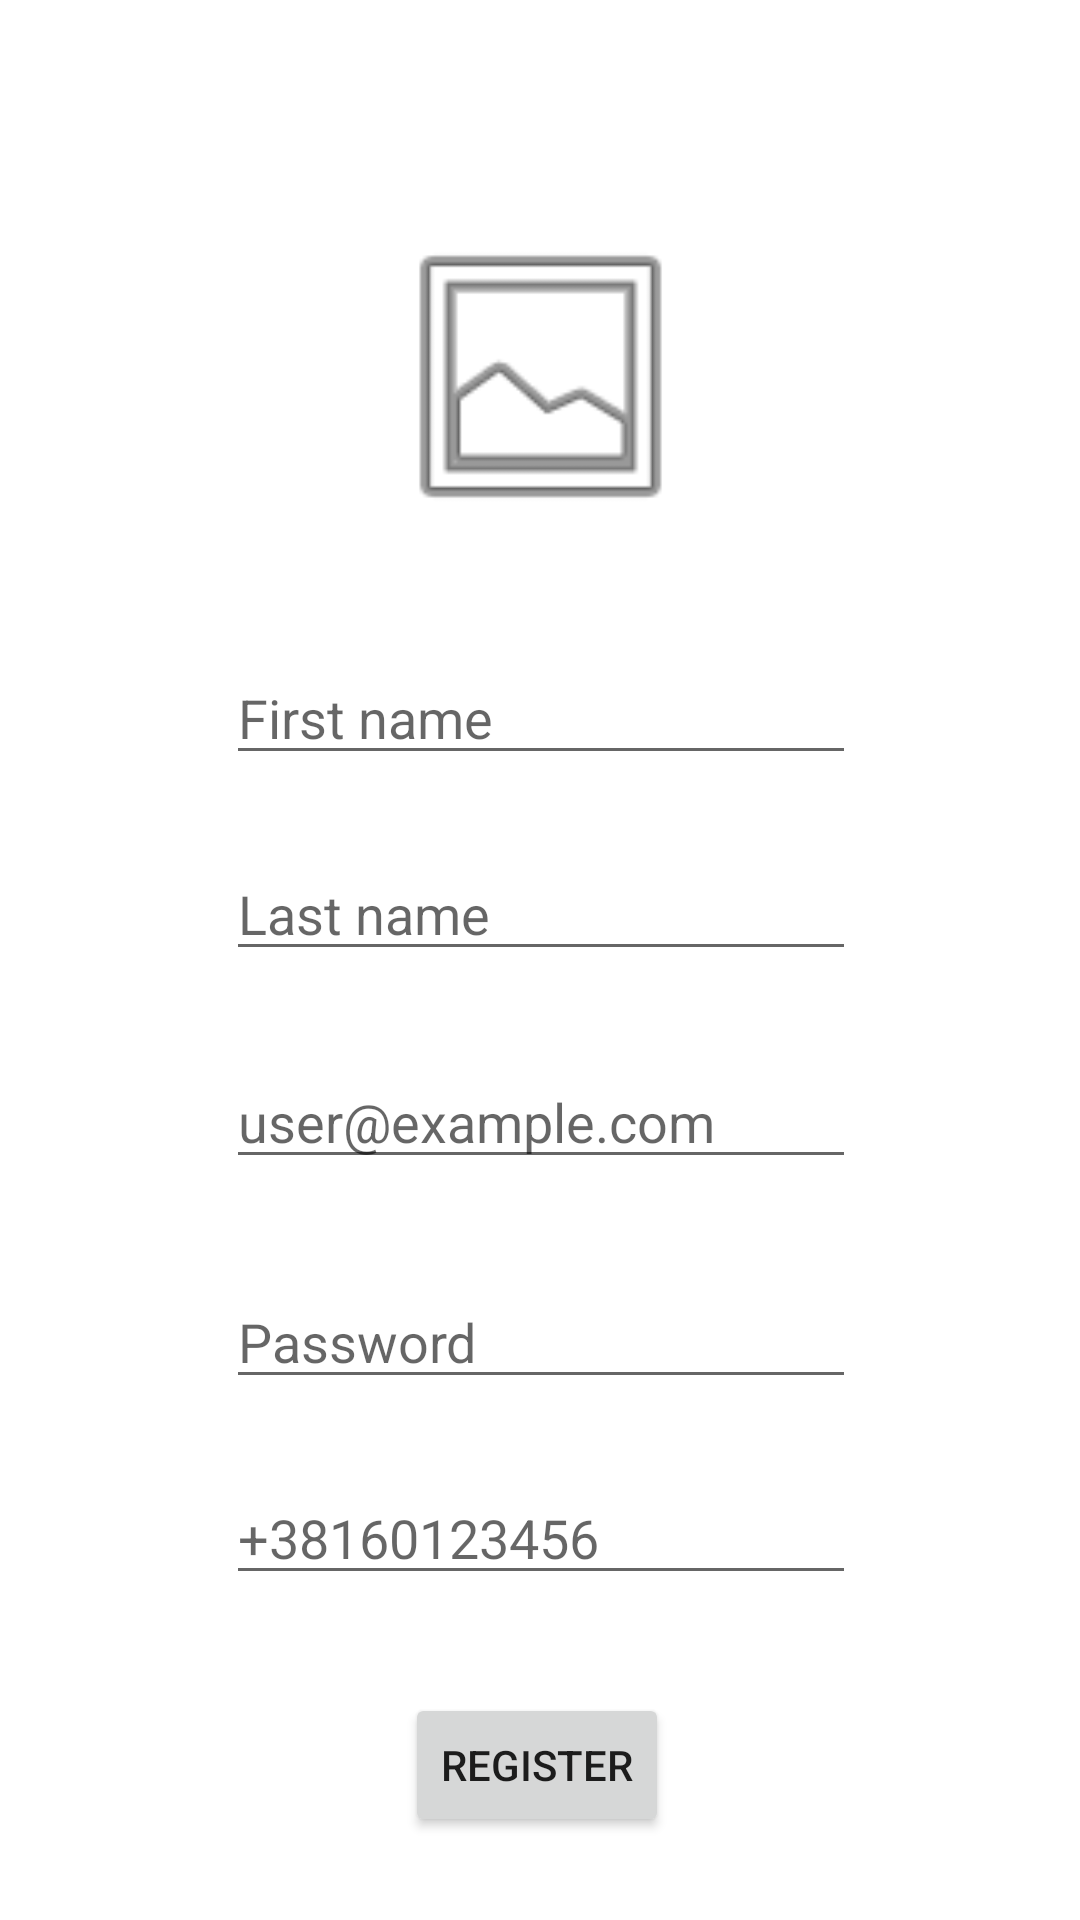

Icon click points for this 1080x1920 phone screenshot, format [x,y]:
gallery: [540,376]
